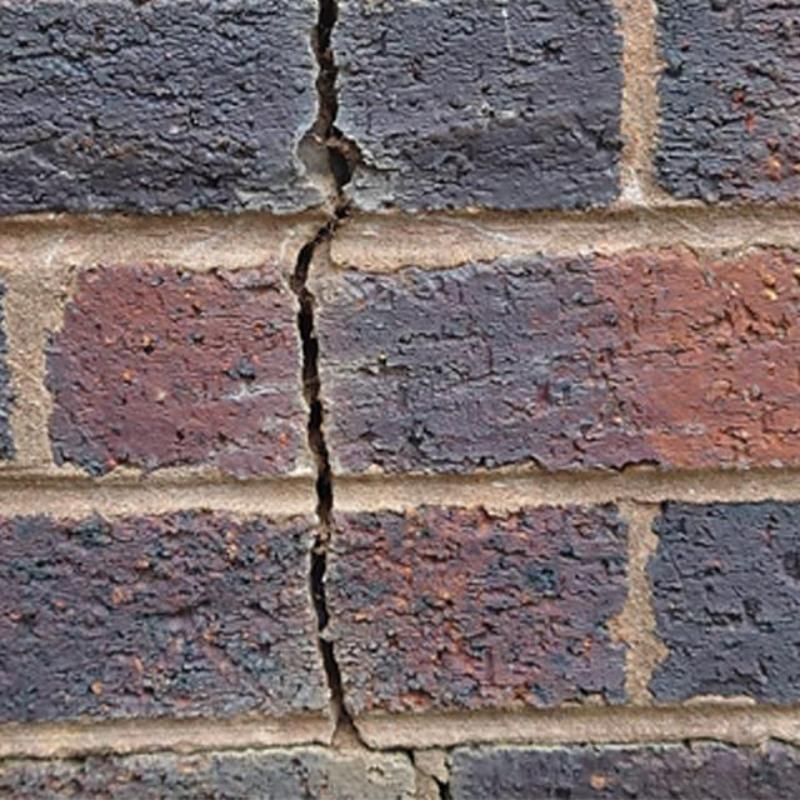pothole: (289, 0, 362, 740), (360, 739, 465, 768), (431, 775, 453, 799)
